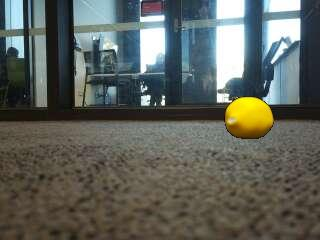lemon: (225, 96, 273, 138)
